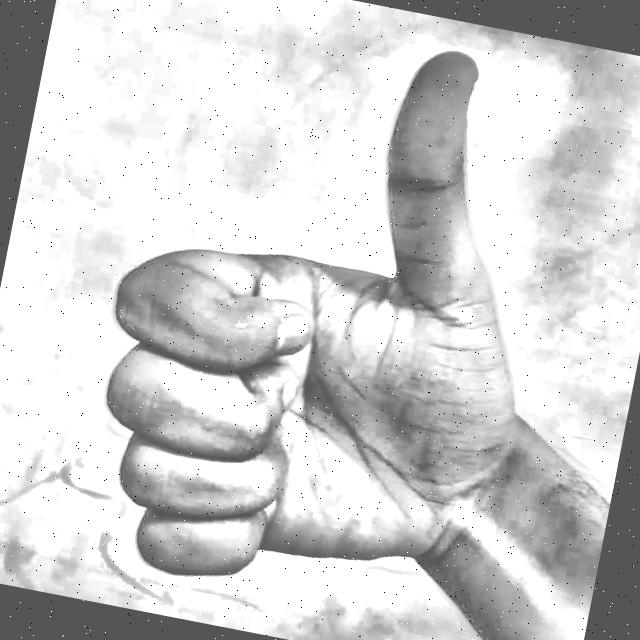Do: (11, 0, 588, 640)
